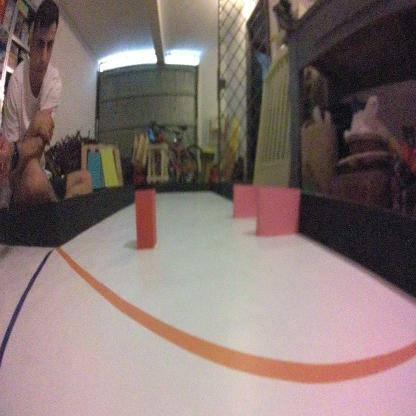magenta: (252, 184, 298, 241), (230, 177, 262, 219)
red: (133, 188, 157, 252)
